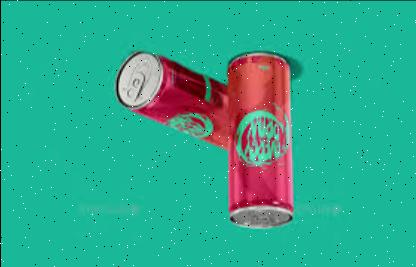Can: (229, 53, 294, 227), (113, 49, 226, 147)
